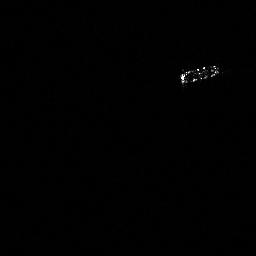ship: (180, 63, 219, 84)
